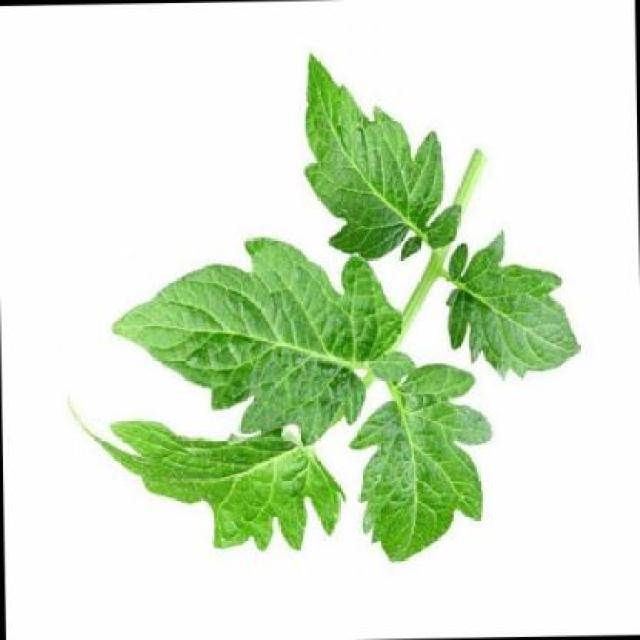Healthy Leaf: (107, 210, 404, 450), (83, 383, 367, 600), (286, 39, 463, 295), (341, 336, 489, 598), (441, 220, 592, 386)
